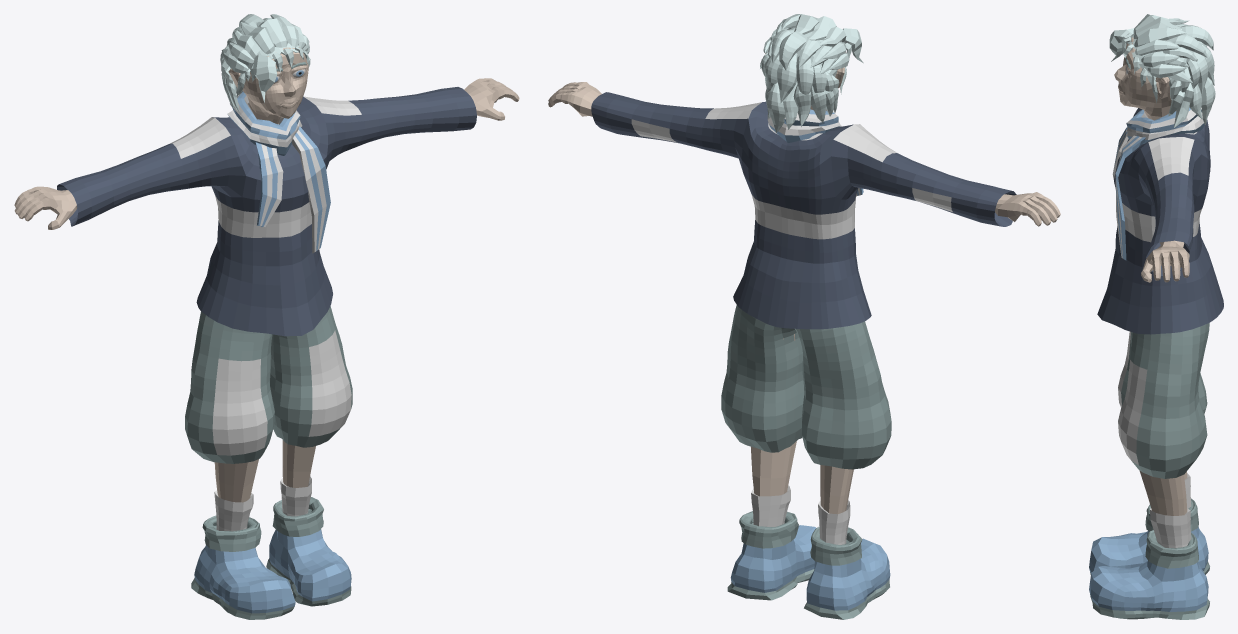
The model's file is PLAYER_Shelly(2nd).fbx.
3 views of the same model, side by side, from view 1: azimuth 30°, elevation 25°; view 2: azimuth 150°, elevation 25°; view 3: azimuth 270°, elevation 25° (orthographic).
Visible parts, largest first — view 1: Shirt, Pants, Shoes, Body2, Muffler, Hair1, Socks; view 2: Shirt, Pants, Shoes, Hair1, Body2, Socks, Muffler; view 3: Shirt, Pants, Shoes, Hair1, Body2, Muffler, Socks.
Boxes of the visible parts, x1,y1,x2,y2 form: Shirt: [57, 87, 476, 336]; Pants: [185, 306, 352, 463]; Shoes: [191, 497, 351, 619]; Body2: [14, 47, 519, 502]; Muffler: [227, 91, 330, 253]; Hair1: [220, 14, 310, 112]; Socks: [214, 476, 311, 531]; Shirt: [591, 92, 1016, 329]; Pants: [721, 305, 891, 469]; Shoes: [727, 511, 890, 619]; Hair1: [760, 14, 863, 132]; Body2: [548, 52, 1060, 514]; Socks: [751, 485, 850, 544]; Muffler: [767, 109, 863, 196]; Shirt: [1097, 108, 1223, 334]; Pants: [1118, 323, 1209, 478]; Shoes: [1089, 498, 1209, 619]; Hair1: [1109, 14, 1215, 127]; Body2: [1114, 37, 1189, 515]; Muffler: [1112, 107, 1204, 260]; Socks: [1150, 473, 1191, 548].
Bounding box in the file's own units: 169 × 185 × 39.48.
